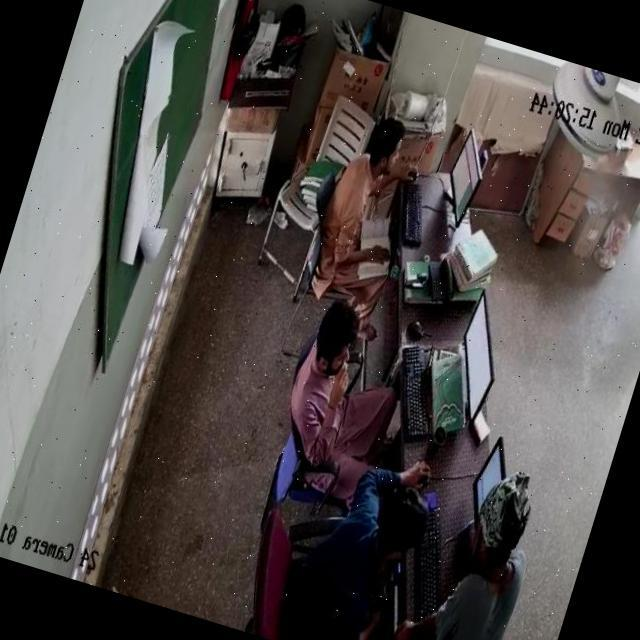person: (275, 439, 441, 640), (272, 292, 412, 490), (422, 463, 552, 640), (308, 120, 416, 286)
